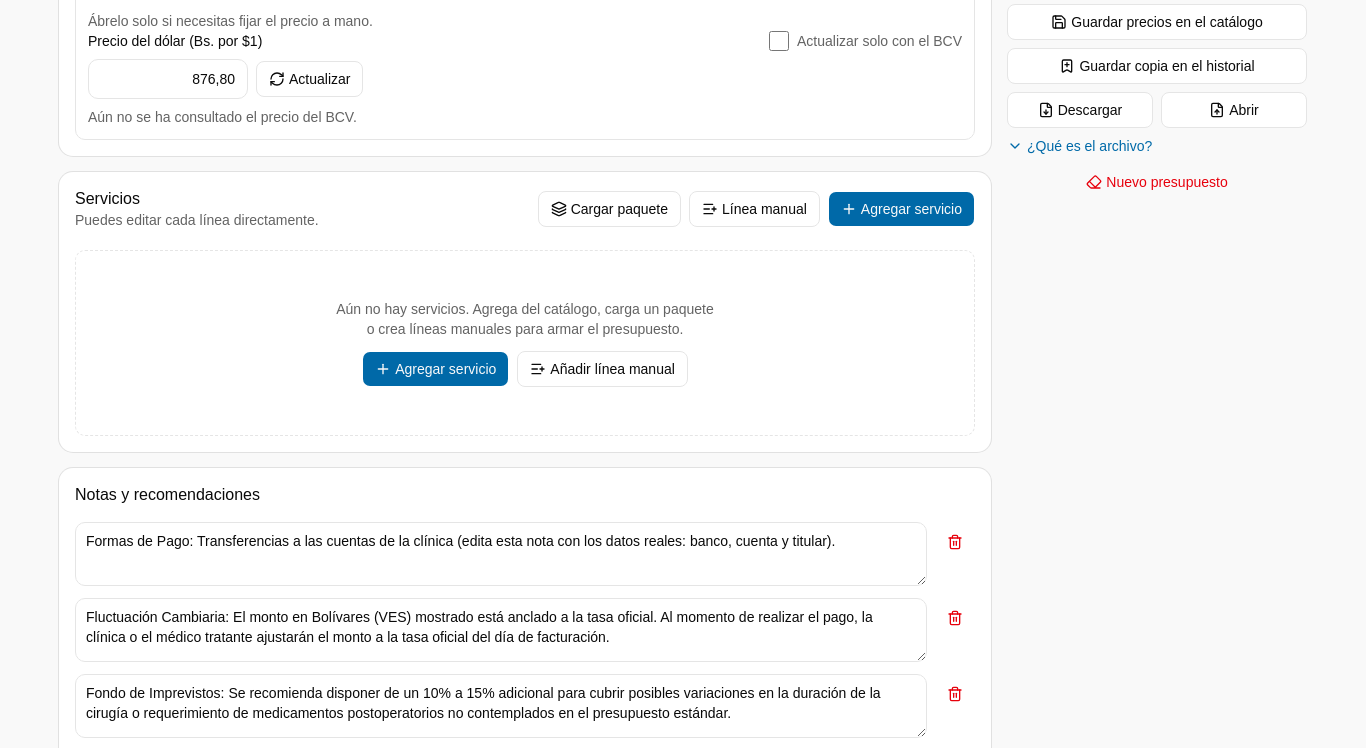
App · interacciones › permite crear una categoría nueva desde el selector
(page scrolled)
Click the button "Añadir línea manual" at (603, 368), box [517,350,688,386]
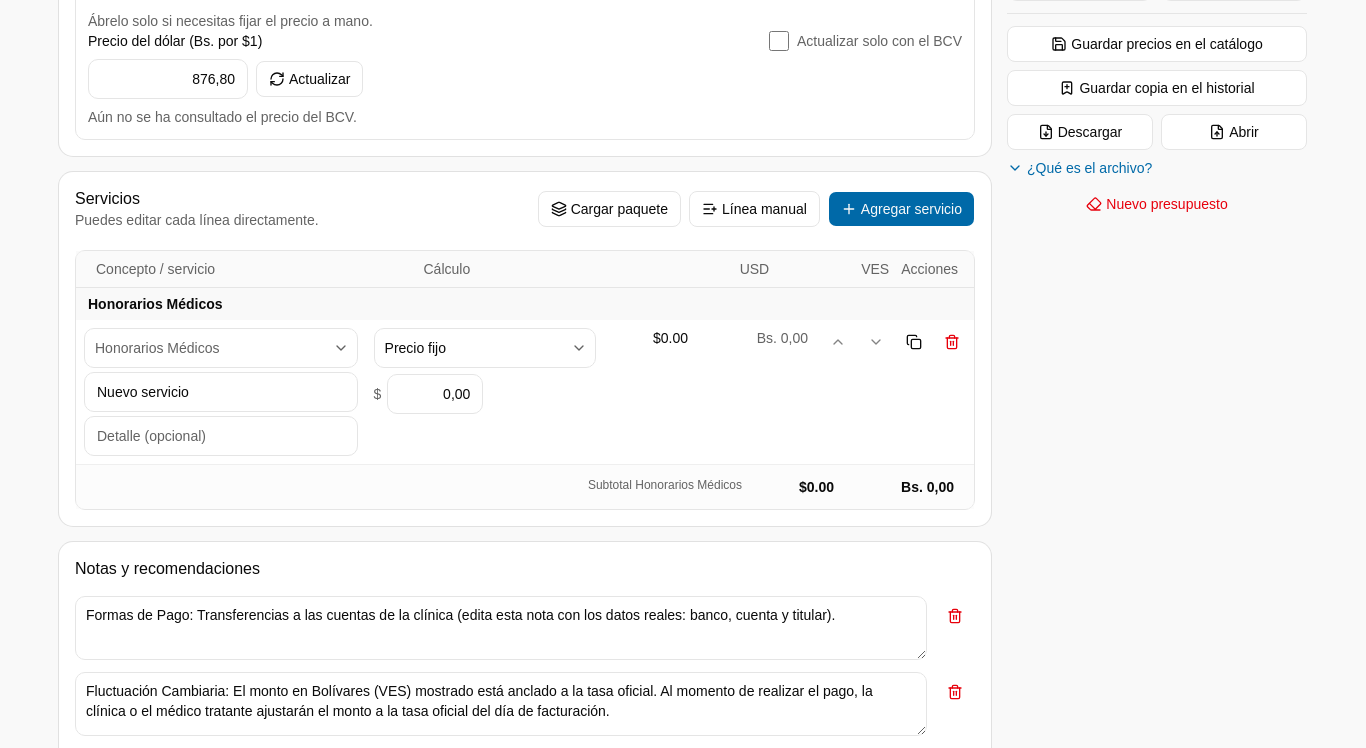
Click the dropdown named "Categoría" at (221, 348), box [84,328,358,368]
(page scrolled)
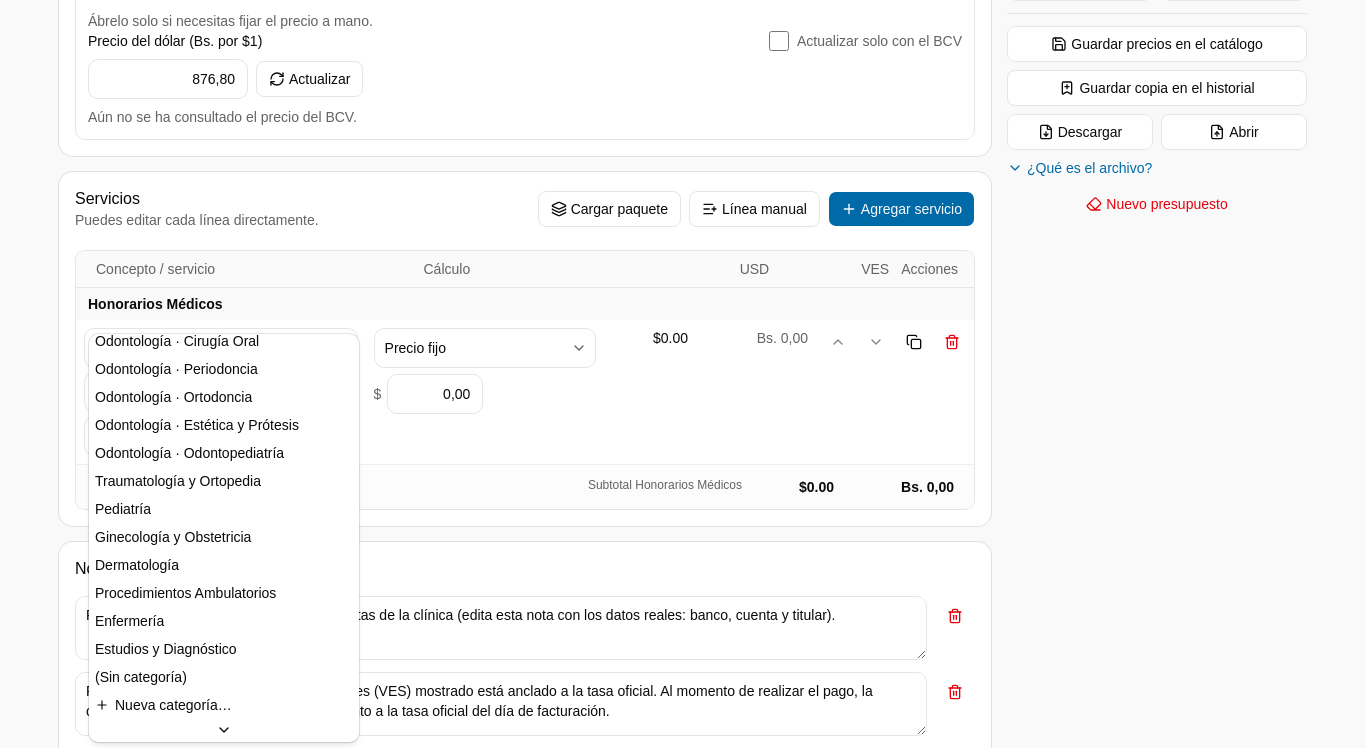
Click the option "Nueva categoría…" at (163, 704), box [95,696,232,712]
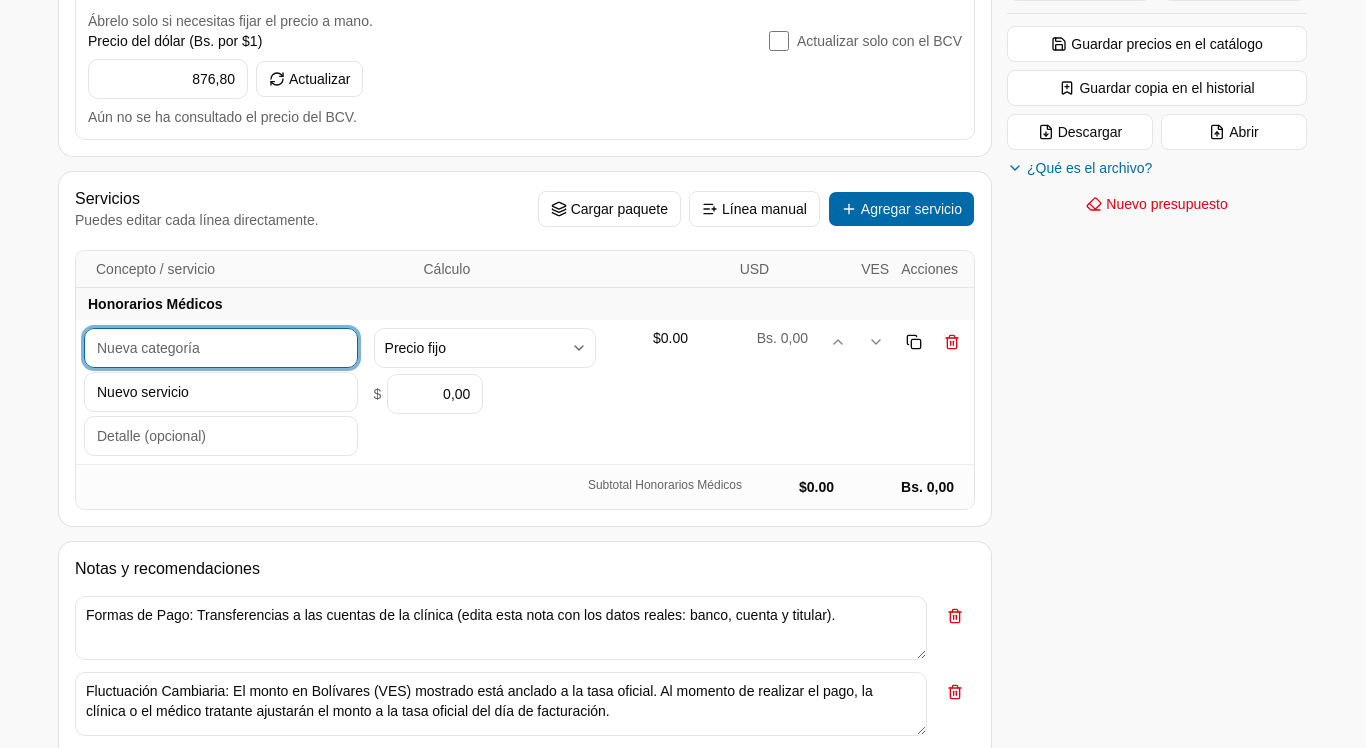
Type "Ortodoncia" into the field labelled "categoría" at (221, 348), box [84,328,358,368]
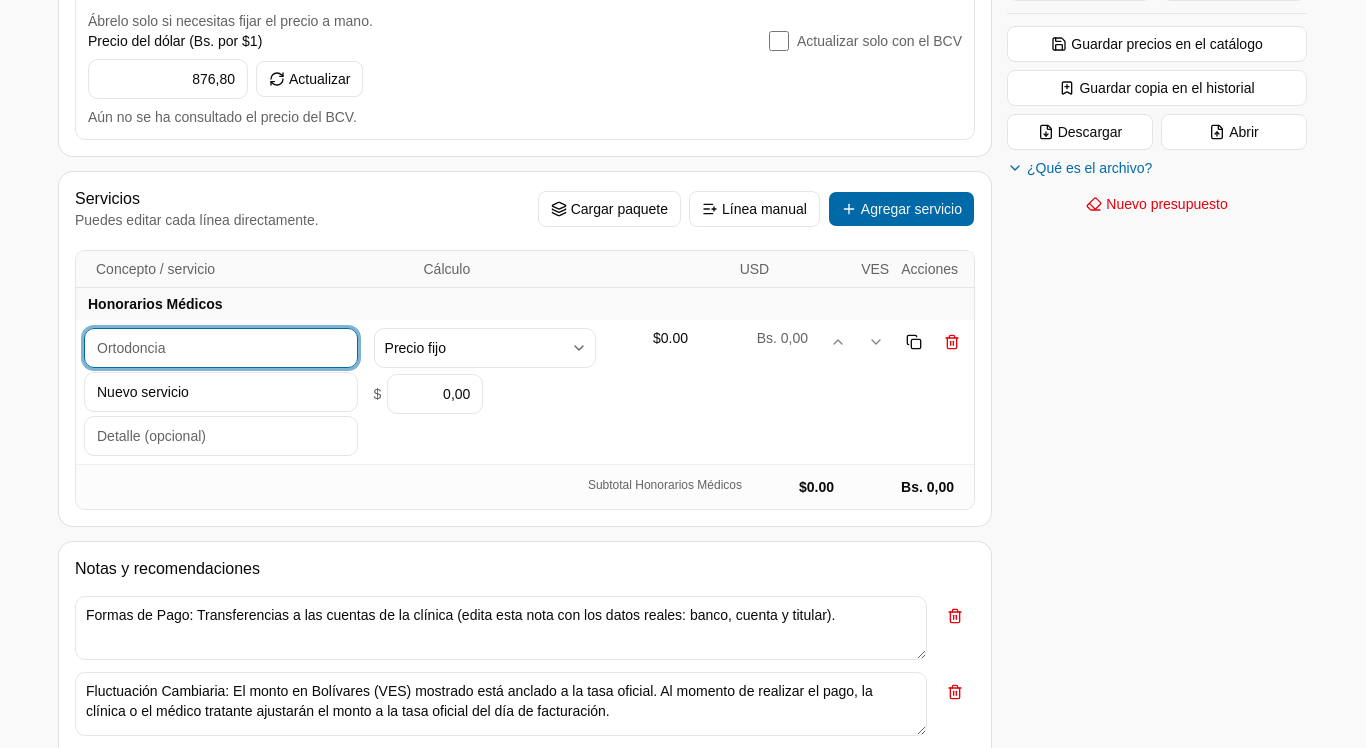
Press Tab
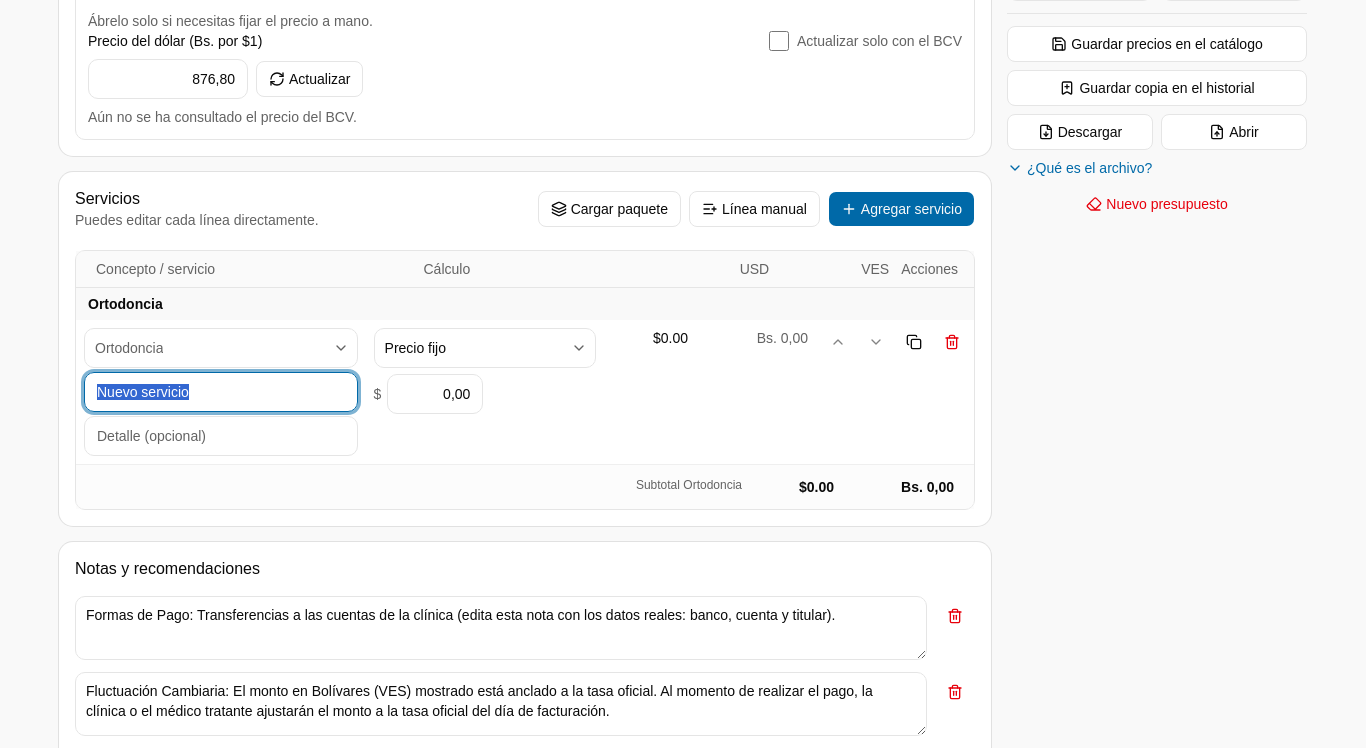
Check: the 1st cell "Ortodoncia" is shown, box [88,296,163,312]
